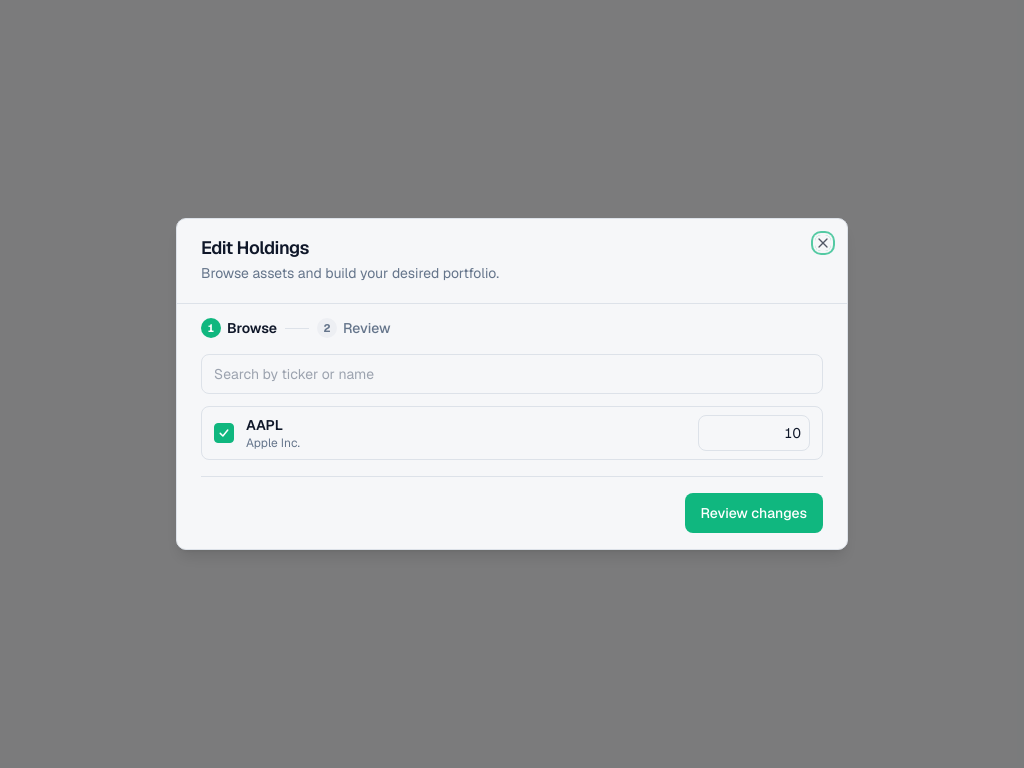
Test: GC.12 — automated accessibility audit of the built modal › Review step has no detectable violations
The width and height of the screenshot is (1024, 768).
What coordinates should you click on to do the following:
click the button "Review changes"
I would click on:
 (754, 513)
Its box is [684, 493, 823, 533].
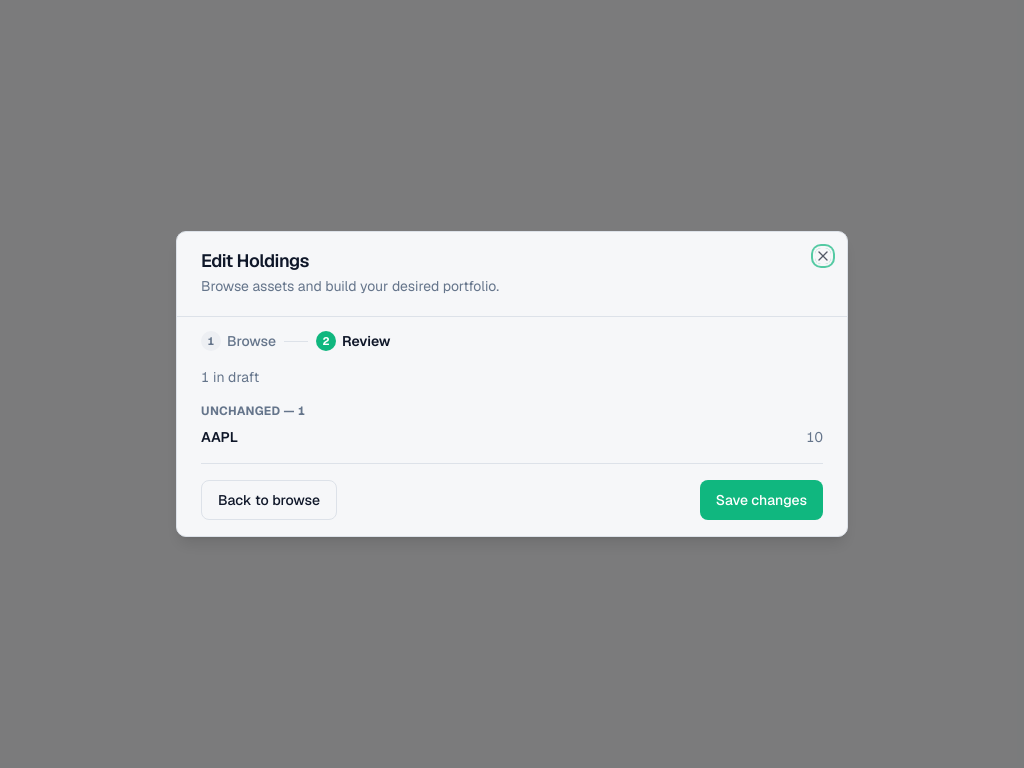
Result: the button "Save changes" is shown at [700, 480, 823, 520]
